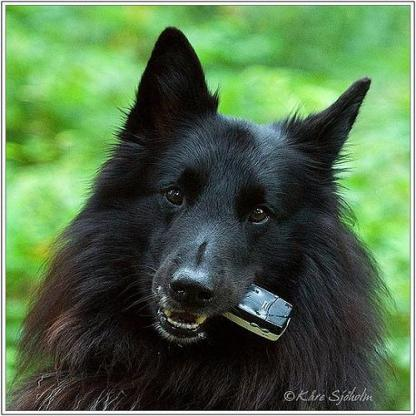groenendael: (22, 26, 400, 414)
